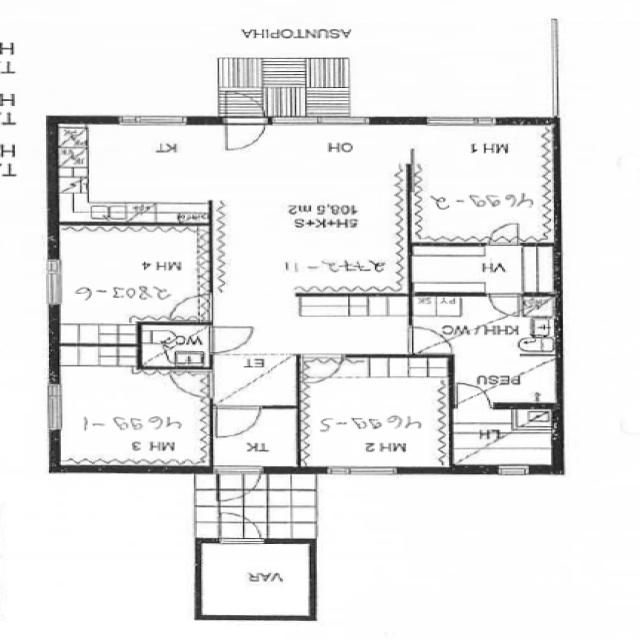door: (198, 538, 314, 618), (209, 326, 292, 406), (219, 91, 269, 154), (210, 462, 267, 499), (210, 404, 266, 441), (401, 323, 458, 357), (203, 322, 258, 357), (213, 516, 270, 548), (296, 351, 347, 384), (450, 378, 500, 407), (480, 219, 526, 247), (483, 290, 525, 320)
window: (269, 114, 380, 129), (317, 462, 407, 480), (41, 378, 66, 434), (41, 253, 64, 310), (112, 113, 193, 128), (418, 114, 498, 129), (489, 462, 536, 478)
zone: (210, 119, 410, 350), (295, 353, 452, 471), (408, 122, 558, 245), (53, 222, 214, 330), (57, 120, 217, 223), (51, 367, 212, 469), (435, 295, 560, 404), (196, 539, 316, 619), (404, 243, 562, 296), (448, 404, 561, 469), (208, 402, 296, 470), (212, 356, 297, 407), (134, 321, 212, 369)
